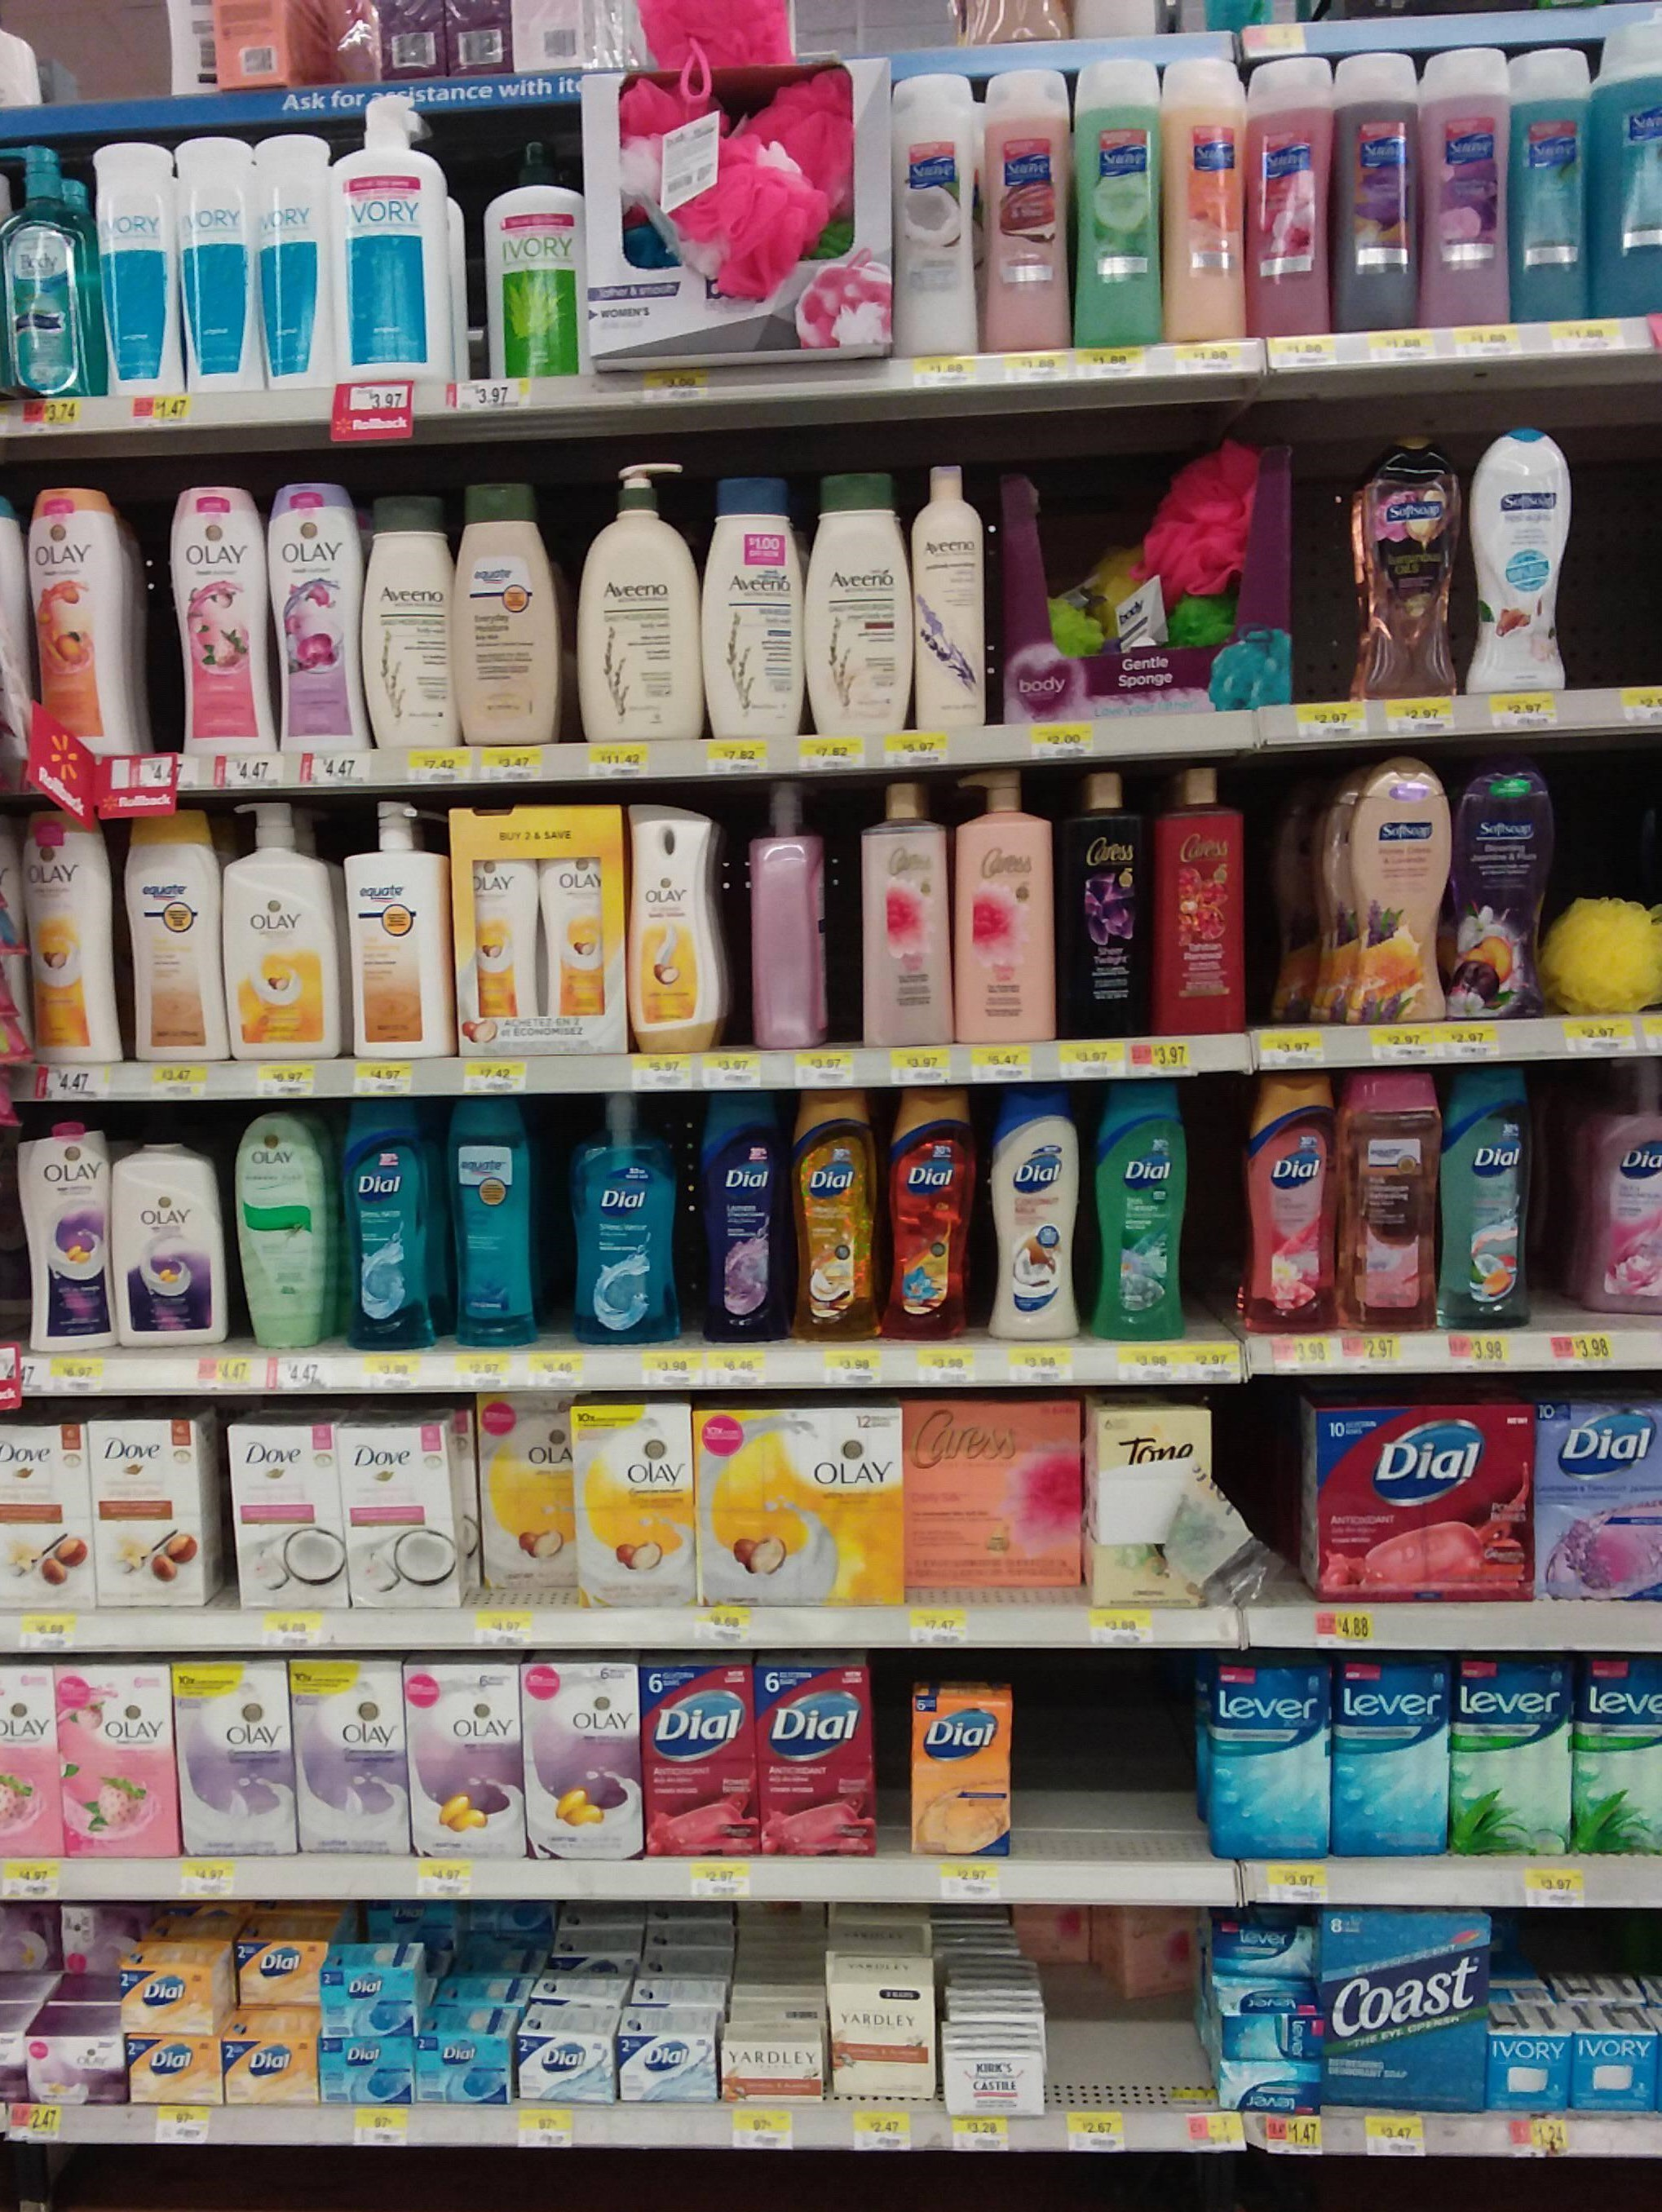empty: (1027, 1678, 1191, 1845), (1583, 417, 1662, 677), (1192, 1088, 1238, 1341), (1302, 456, 1344, 697), (1538, 1082, 1580, 1320)
misalignment: (1234, 1397, 1533, 1601), (1035, 1898, 1198, 2015)
